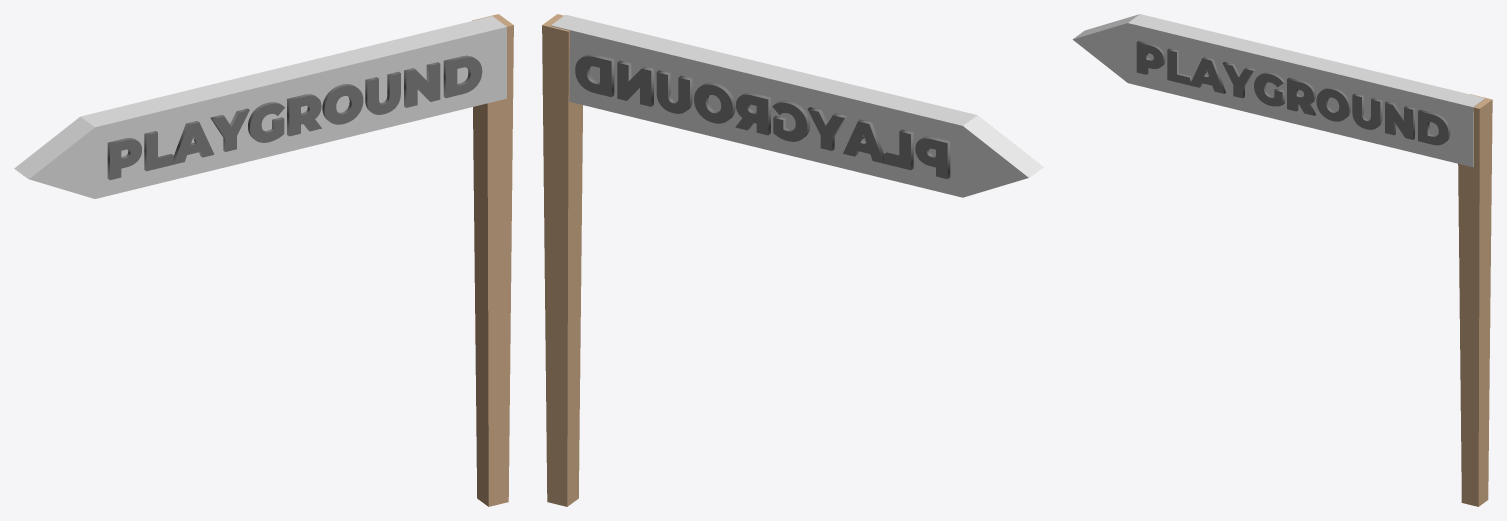
File: navigation_board_playground.fbx
3 views of the same model, side by side, from view 1: azimuth 30°, elevation 25°; view 2: azimuth 150°, elevation 25°; view 3: azimuth 330°, elevation 25° (orthographic). The views are drawn at different scales.
Parts seen in each view (by area): view 1: Cube.001, Cube, Text.001; view 2: Cube.001, Cube, Text.002; view 3: Cube.001, Cube, Text.001.
Boxes of the visible parts, x1,y1,x2,y2 form: Cube.001: [14, 16, 506, 198]; Cube: [472, 14, 513, 506]; Text.001: [107, 55, 482, 179]; Cube.001: [551, 14, 1043, 197]; Cube: [542, 14, 582, 506]; Text.002: [575, 54, 950, 179]; Cube.001: [1072, 14, 1485, 167]; Cube: [1458, 94, 1492, 506]; Text.001: [1136, 41, 1450, 145].
Size of the model in its own units: 190 by 179 by 13.25.
